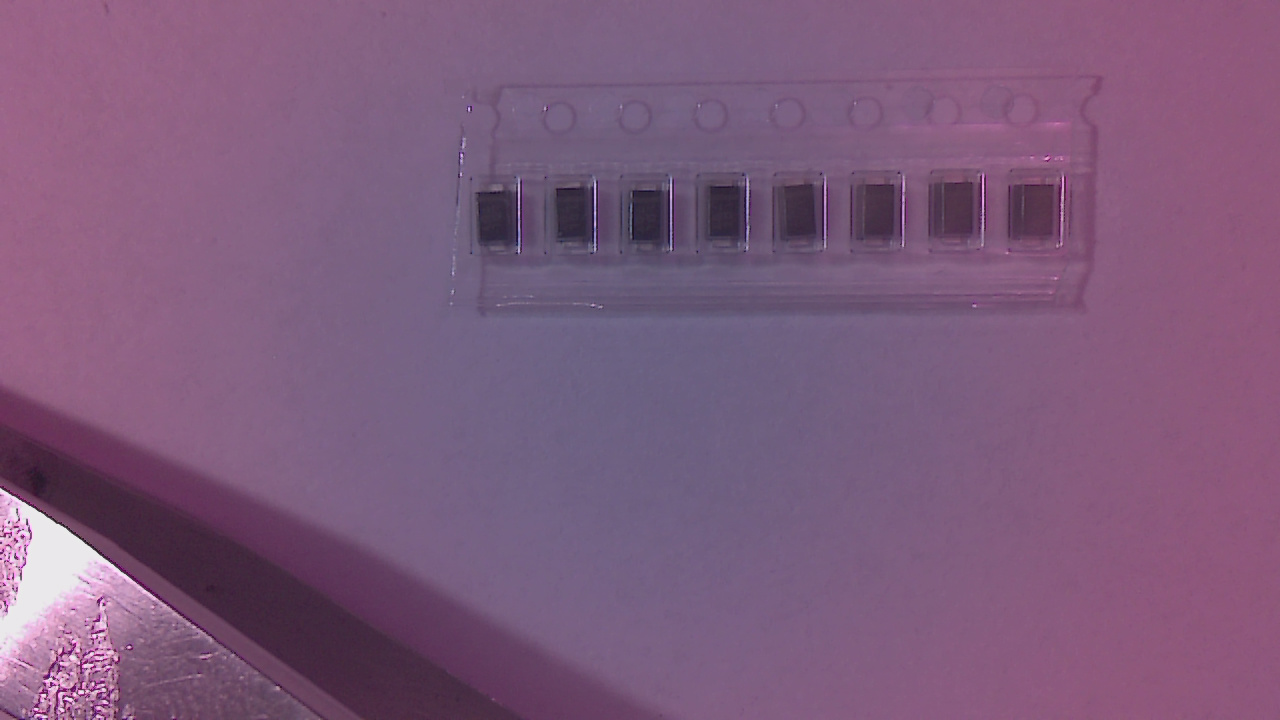Diode: (856, 176, 903, 255), (1015, 179, 1060, 259), (937, 181, 983, 256), (783, 183, 825, 256), (708, 181, 746, 257), (478, 186, 519, 256), (557, 184, 595, 253), (633, 183, 668, 254)
